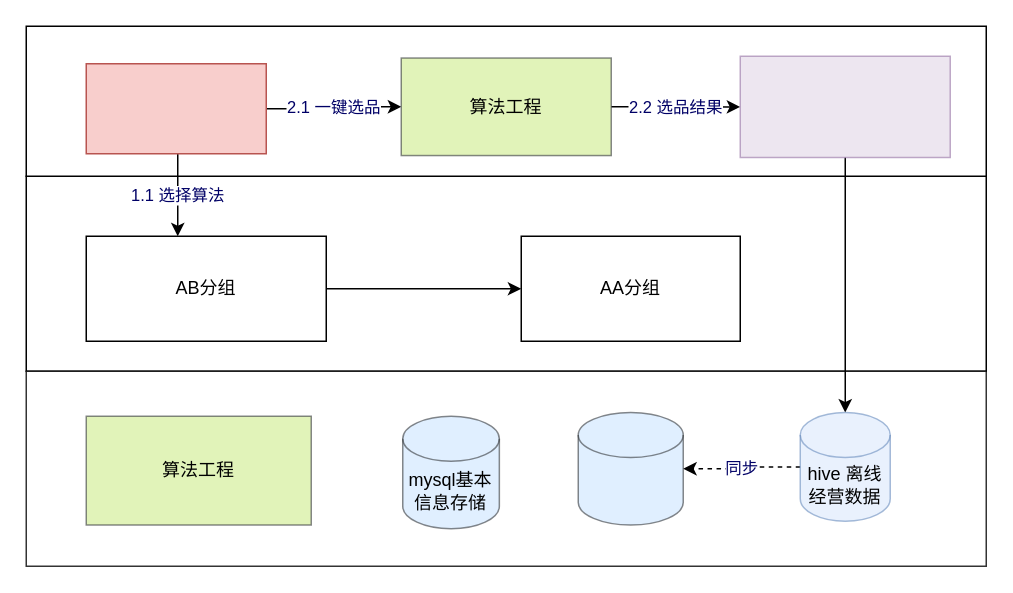
This 1013x593 diagram has some shape labels left out. Here are the shapes that lost their labels. From the top down, the centre of each, then its label:
the point at 175,108: 算法选品
the point at 844,106: 档期服务
the point at 630,468: doris 实验报告
